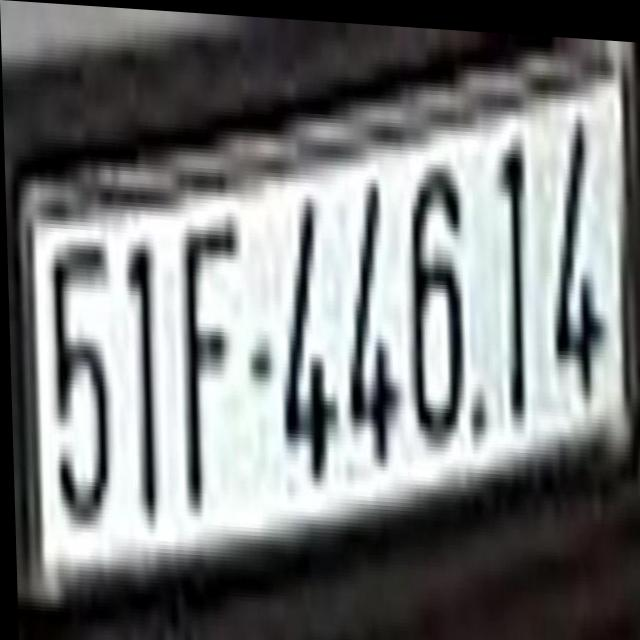1: (118, 227, 158, 536), (498, 134, 536, 416)
4: (339, 169, 402, 479), (546, 106, 611, 396), (278, 196, 334, 498)
5: (46, 219, 111, 540)
6: (408, 145, 466, 447)
F: (175, 203, 244, 505)
